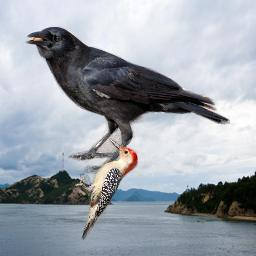Crow: (25, 25, 230, 175)
Woodpecker: (71, 138, 139, 240)
